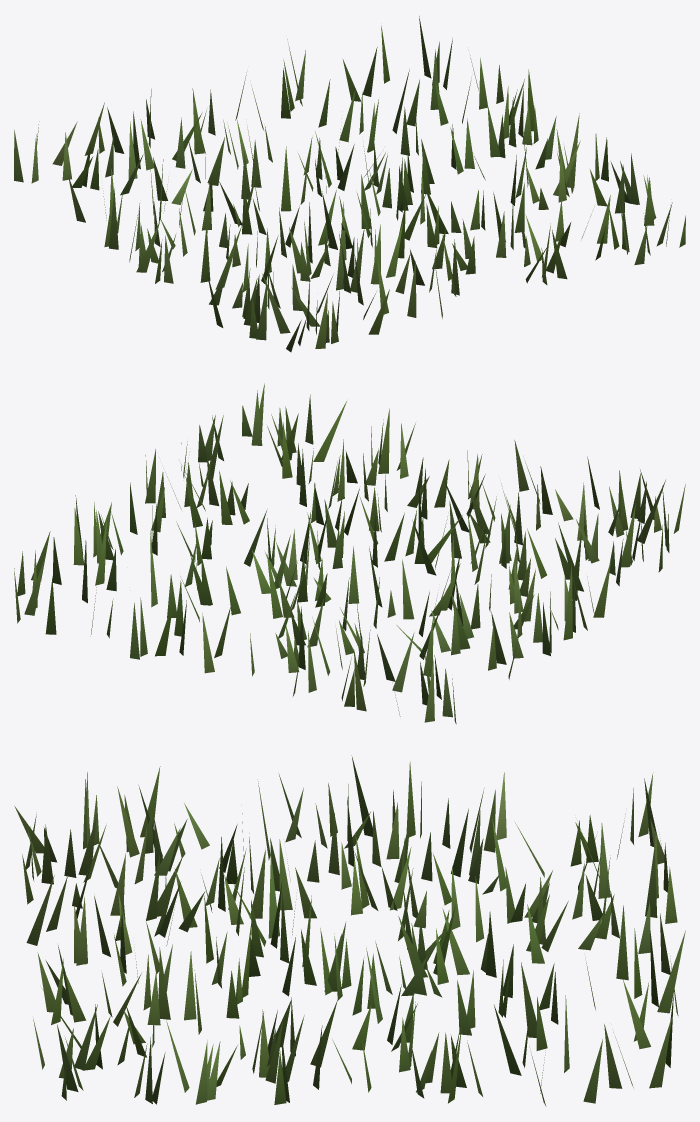
File: grass_carpet_far.glb
3 renders of one model, top to bottom at view 1: azimuth 30°, elevation 25°; view 2: azimuth 150°, elevation 25°; view 3: azimuth 270°, elevation 25°, orthographic. The views are drawn at different scales.
Parts seen in each view (by area): view 1: grass_carpet_far; view 2: grass_carpet_far; view 3: grass_carpet_far.
Part boxes in pixels (<box>): grass_carpet_far: <box>14,16,685,352</box>; grass_carpet_far: <box>14,383,685,724</box>; grass_carpet_far: <box>14,755,685,1106</box>.
Bounding box in the file's own units: 2 × 0.2851 × 2.06.
